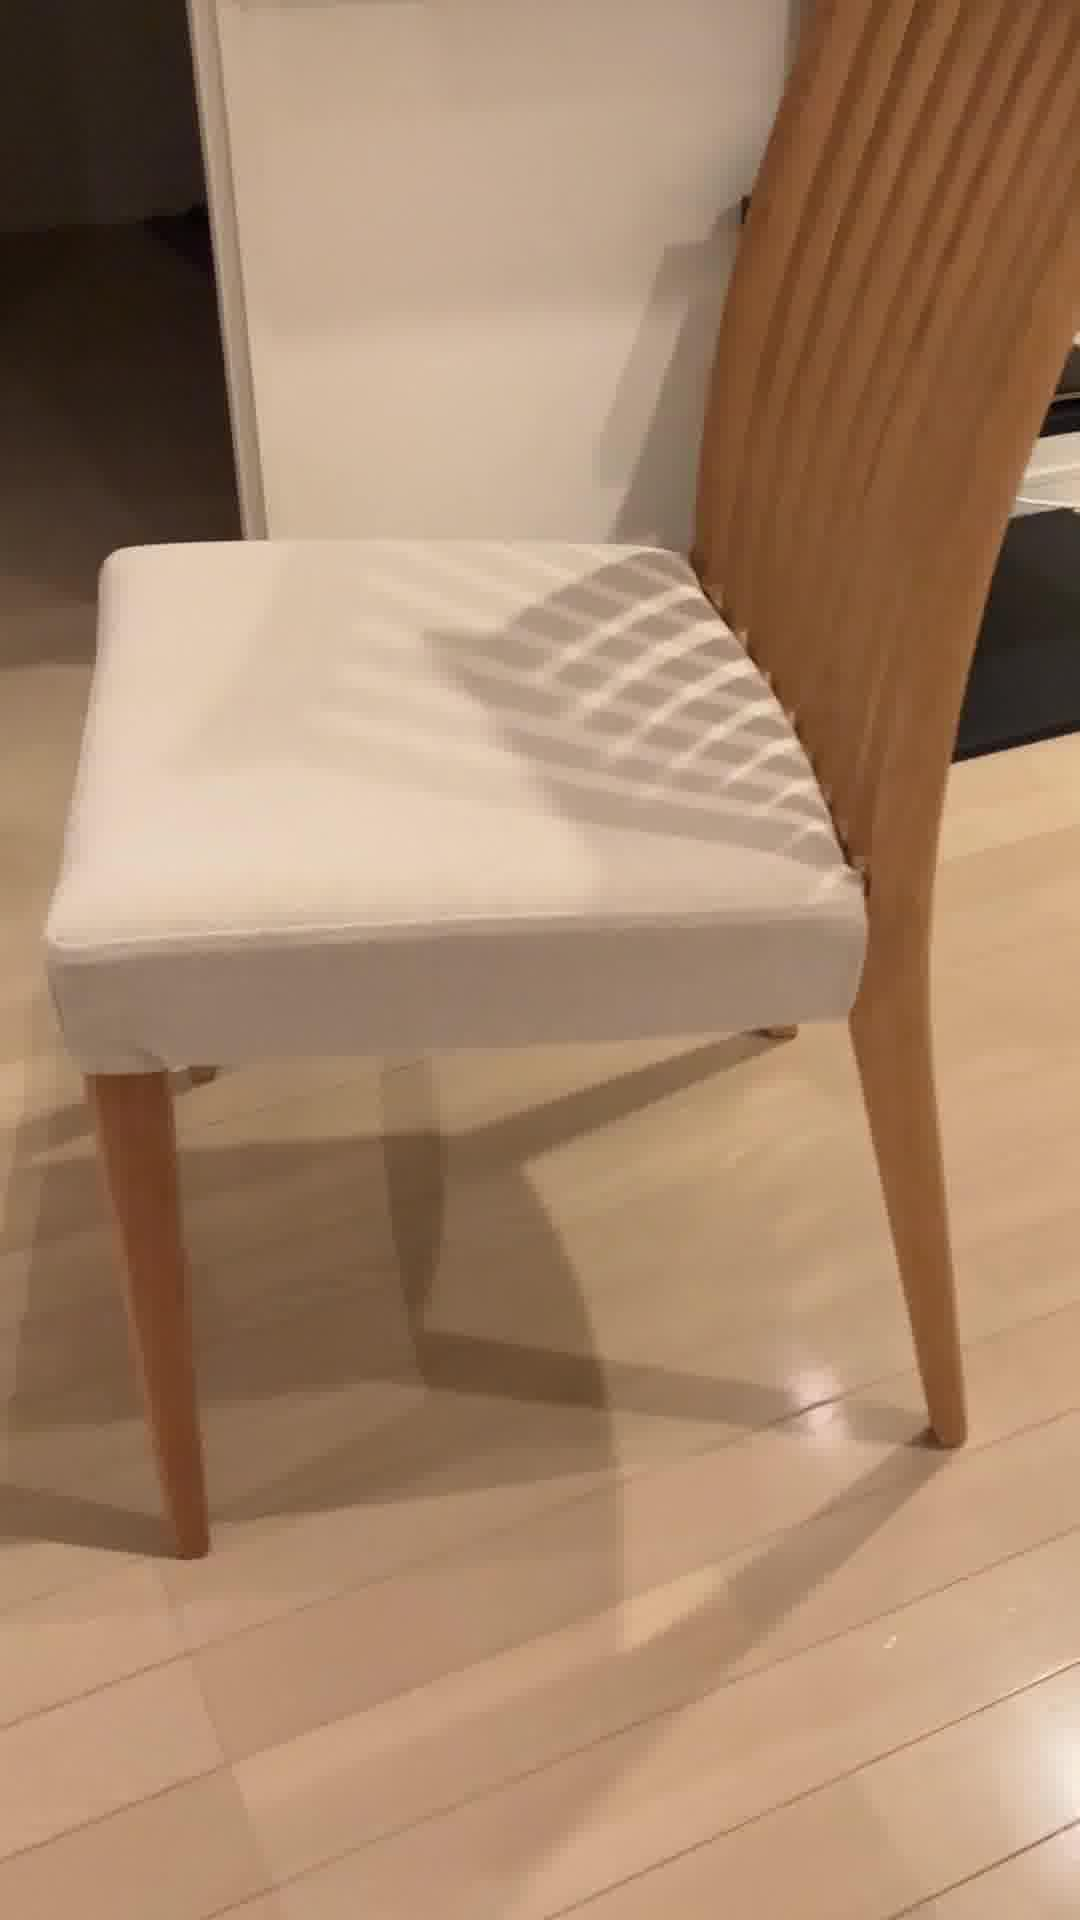takumikan-chair: (38, 0, 1080, 1557)
